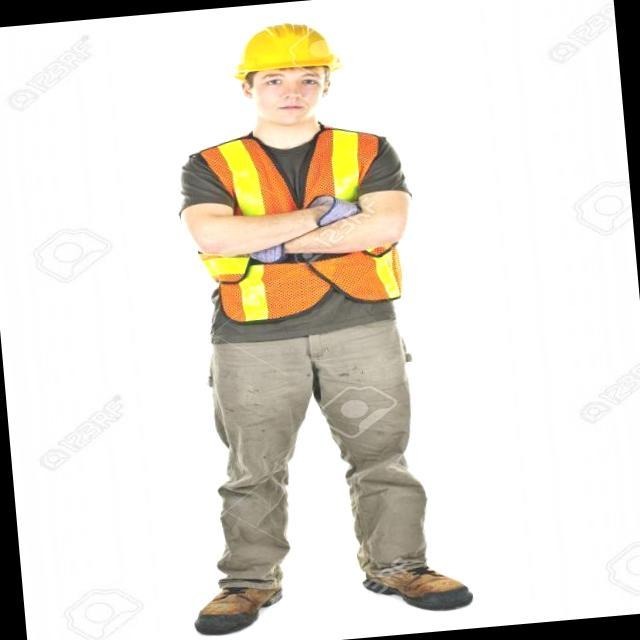Helmet: (228, 19, 344, 83)
Person: (154, 7, 512, 640)
Safety Boot: (360, 561, 475, 618), (189, 581, 287, 638)
Safety Vest: (189, 120, 407, 326)
